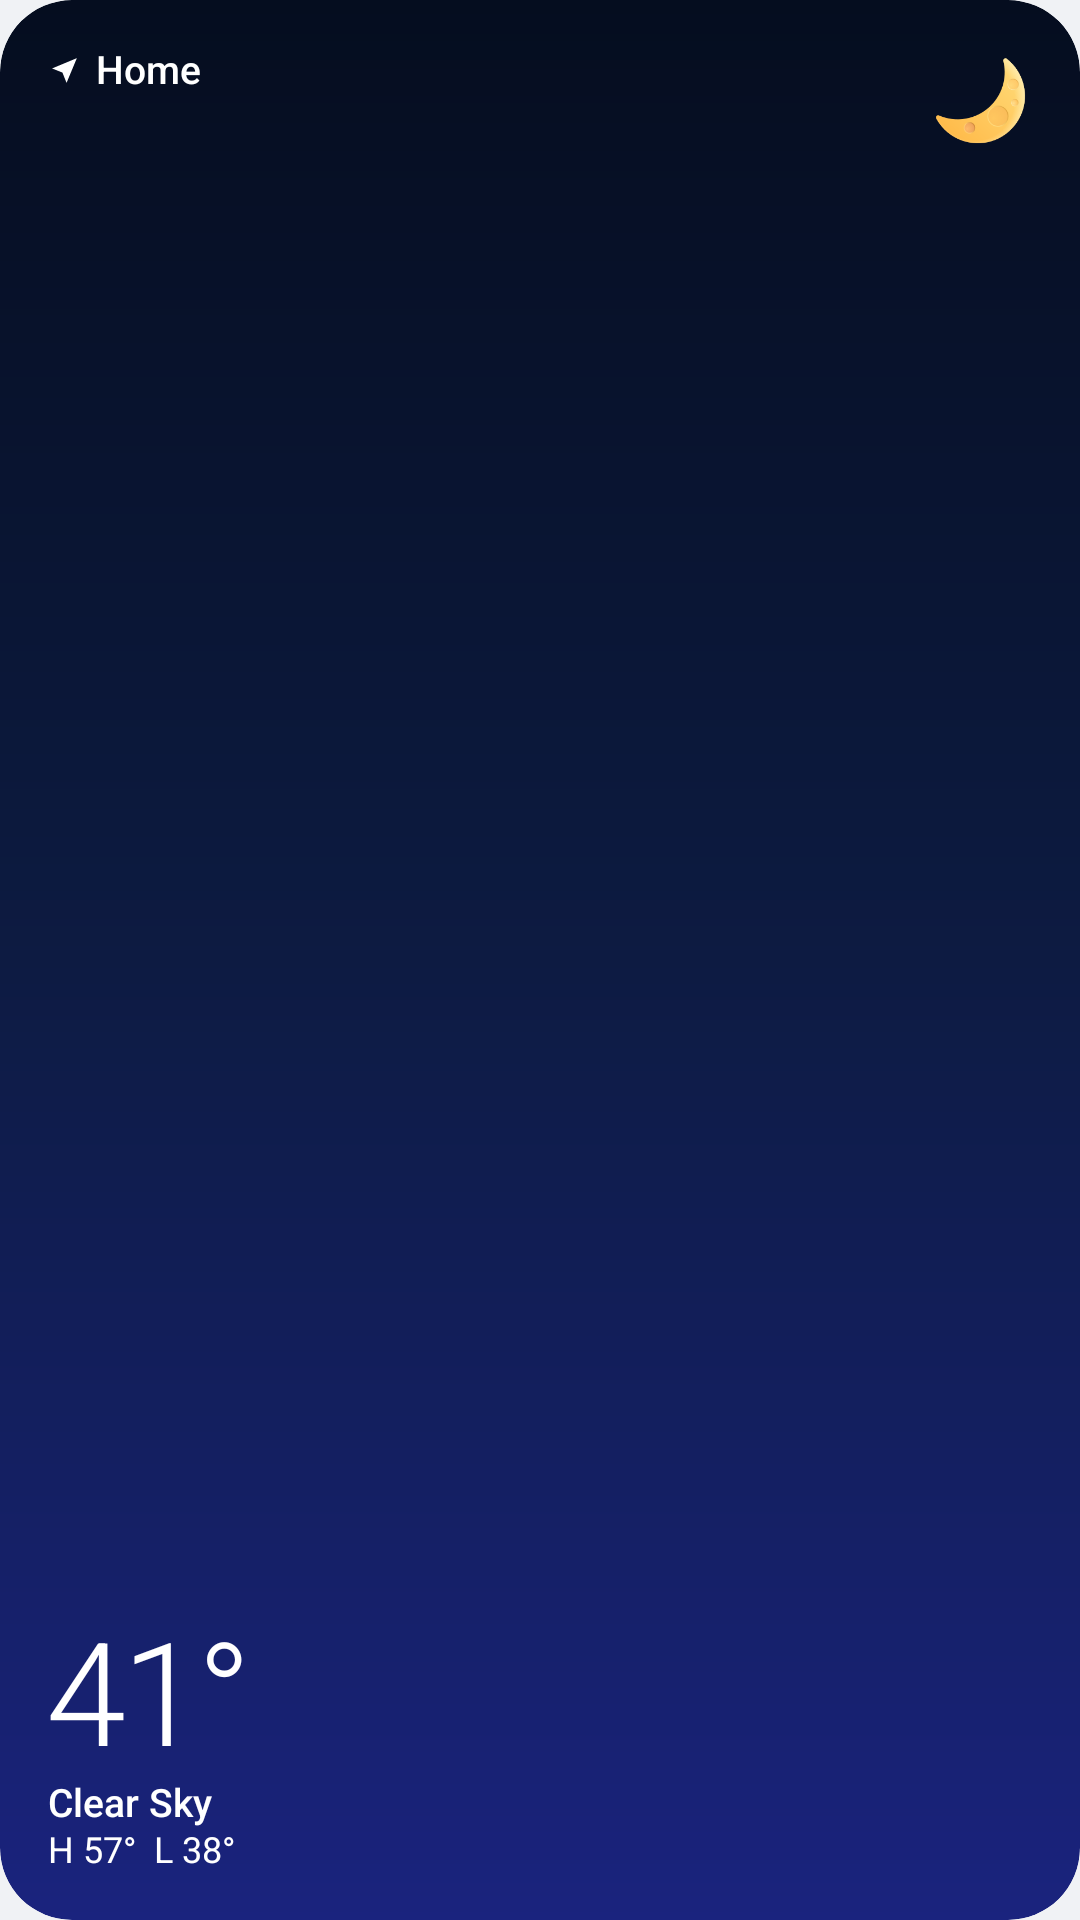

Icons on this 1080 x 1920 Android screen, each with its box as (x1=x1, y1=y1, x2=x2, y2=y2):
moon: (x1=936, y1=58, x2=1025, y2=143)
